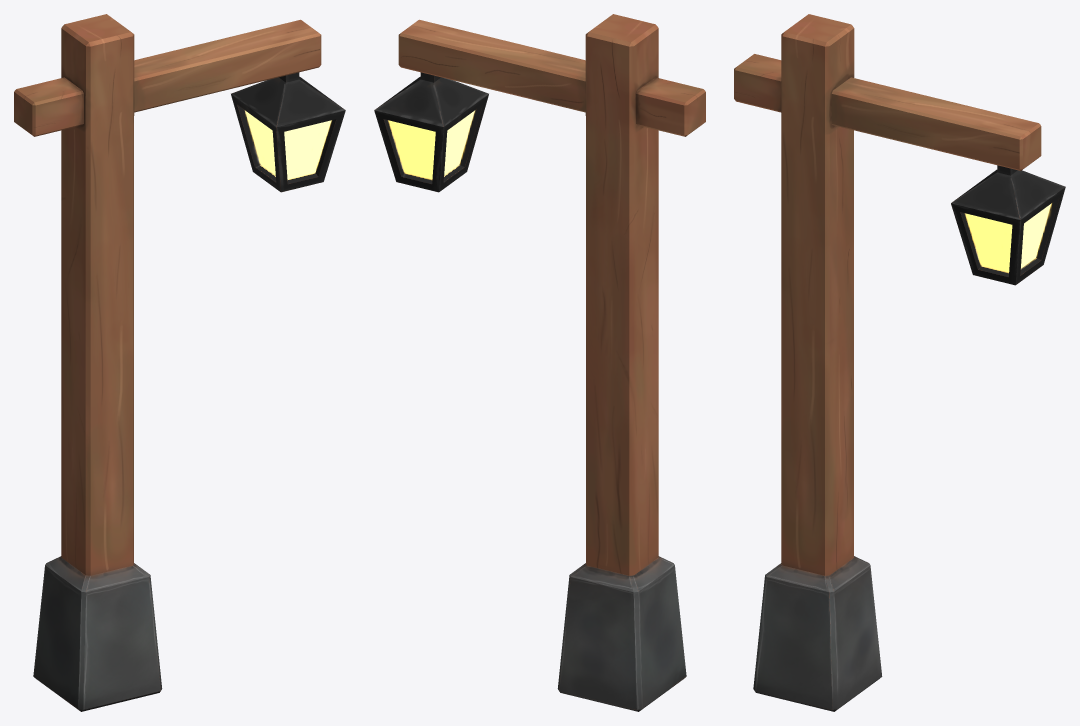
3 views of the same model, side by side, from view 1: azimuth 30°, elevation 25°; view 2: azimuth 150°, elevation 25°; view 3: azimuth 330°, elevation 25° (orthographic).
Parts seen in each view (by area): view 1: Lantern Low Poly; view 2: Lantern Low Poly; view 3: Lantern Low Poly.
Boxes of the visible parts, left/top/right/bottom form: Lantern Low Poly: left=14, top=14, right=345, bottom=711; Lantern Low Poly: left=374, top=14, right=705, bottom=711; Lantern Low Poly: left=734, top=14, right=1065, bottom=711.
Bounding box in the file's own units: 1.07 × 2.23 × 0.2986.
1 material, 1 textured.
